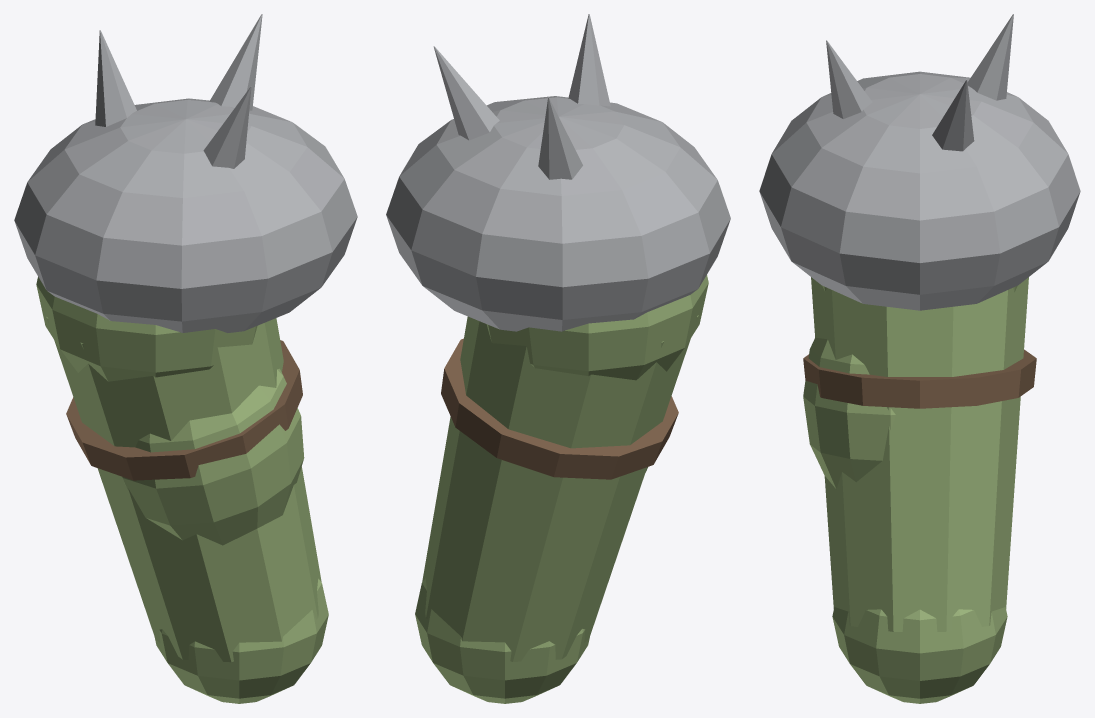
Rendered from SM_Orc_UpperArm_L.fbx.
3 views of the same model, side by side, from view 1: azimuth 30°, elevation 25°; view 2: azimuth 150°, elevation 25°; view 3: azimuth 270°, elevation 25° (orthographic). The views are drawn at different scales.
Visible parts, largest first — view 1: SM_Orc_UpperArm_L; view 2: SM_Orc_UpperArm_L; view 3: SM_Orc_UpperArm_L.
Part boxes in pixels (<box>): SM_Orc_UpperArm_L: <box>14,14,357,703</box>; SM_Orc_UpperArm_L: <box>386,14,730,703</box>; SM_Orc_UpperArm_L: <box>759,14,1080,703</box>.
Bounding box in the file's own units: 0.35 × 0.7233 × 0.33.
